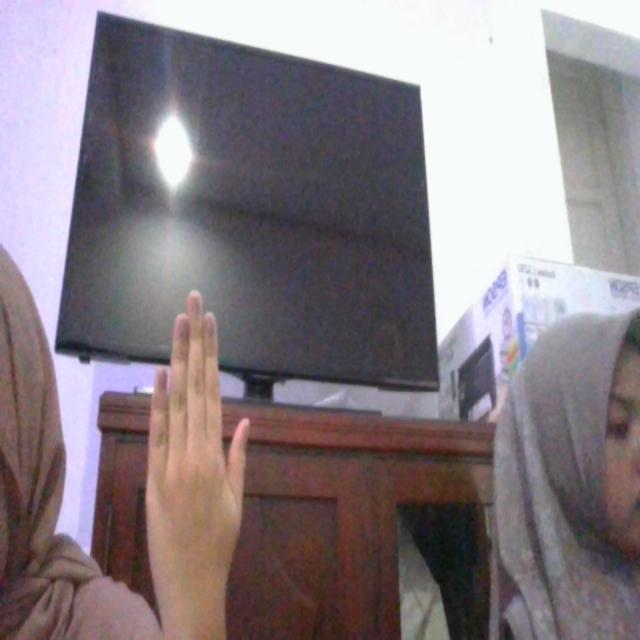hand: (143, 284, 250, 616)
